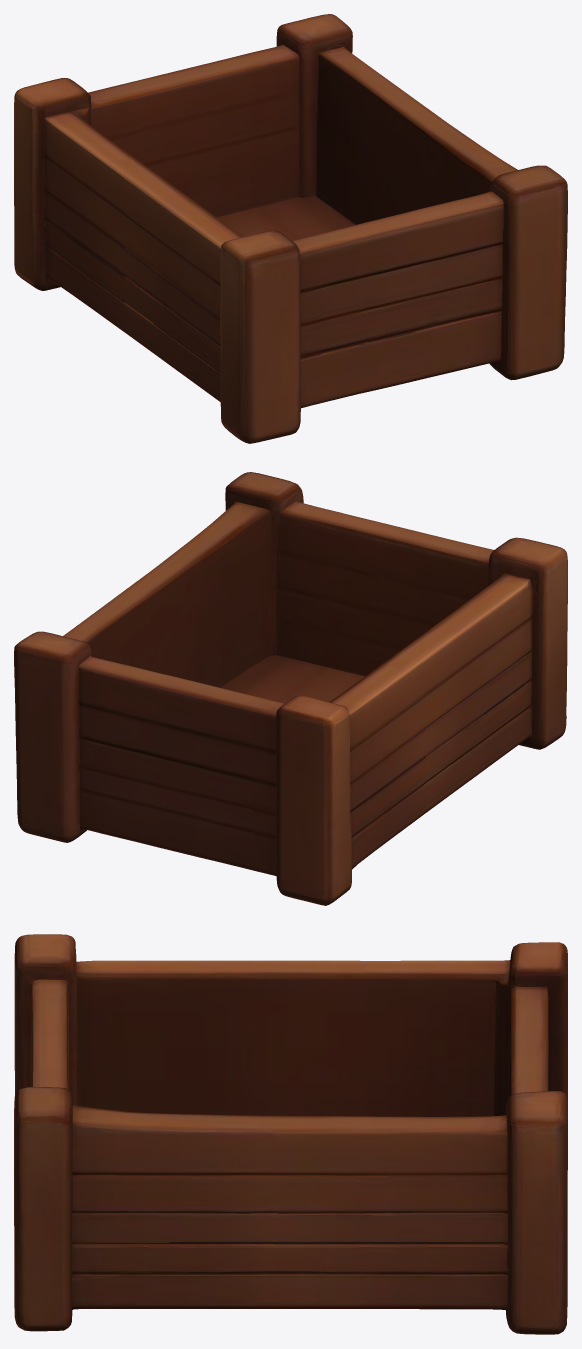
File: empty_plant_bed.glb
3 views of the same model, one above another, from view 1: azimuth 30°, elevation 25°; view 2: azimuth 150°, elevation 25°; view 3: azimuth 270°, elevation 25° (orthographic). The views are drawn at different scales.
Parts seen in each view (by area): view 1: world; view 2: world; view 3: world.
Boxes of the visible parts, box(x1,y1,x2,y2) form: world: box(14, 14, 567, 443); world: box(14, 472, 567, 905); world: box(14, 934, 567, 1334).
Bounding box in the file's own units: 0.7918 × 0.4493 × 0.998.
1 material, 1 textured.
